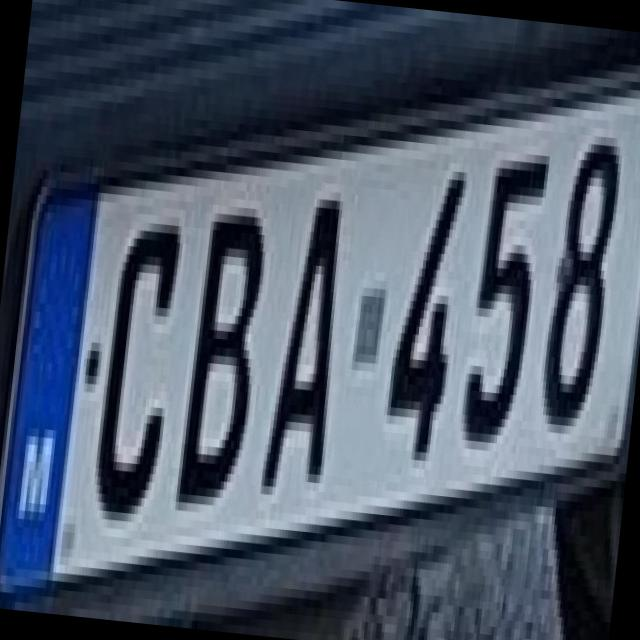4: (369, 132, 482, 455)
5: (447, 124, 558, 446)
8: (524, 106, 640, 429)
A: (246, 162, 362, 492)
B: (164, 177, 283, 508)
C: (76, 185, 193, 525)
